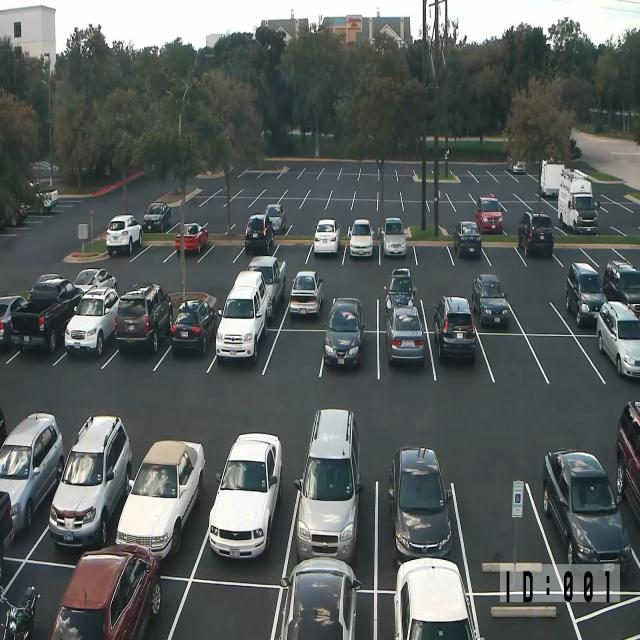car: (542, 449, 632, 573), (49, 414, 132, 548), (115, 439, 206, 561), (294, 407, 364, 564), (50, 542, 162, 640), (208, 432, 282, 560), (0, 411, 65, 535), (388, 445, 452, 566), (270, 556, 361, 640), (394, 556, 484, 640), (10, 274, 84, 354), (215, 270, 270, 363), (115, 281, 172, 354), (64, 286, 119, 356), (596, 301, 640, 378), (323, 296, 365, 368), (616, 399, 640, 523), (433, 295, 476, 363), (565, 261, 607, 327), (557, 170, 599, 235), (171, 298, 216, 356), (247, 255, 286, 321), (384, 304, 424, 365), (0, 584, 41, 640), (602, 258, 640, 318), (472, 273, 509, 327), (518, 210, 554, 258), (289, 270, 323, 317), (384, 268, 417, 316), (106, 214, 142, 255), (0, 294, 27, 346), (0, 490, 15, 576), (73, 268, 117, 296), (244, 213, 273, 253), (453, 220, 482, 258), (475, 195, 503, 234), (347, 218, 374, 258), (175, 222, 208, 254), (313, 218, 341, 255), (381, 216, 406, 257), (143, 202, 171, 232), (264, 203, 286, 235), (4, 202, 28, 227), (36, 187, 58, 212), (31, 160, 58, 172), (0, 406, 7, 450), (512, 160, 526, 173), (18, 202, 28, 218)
